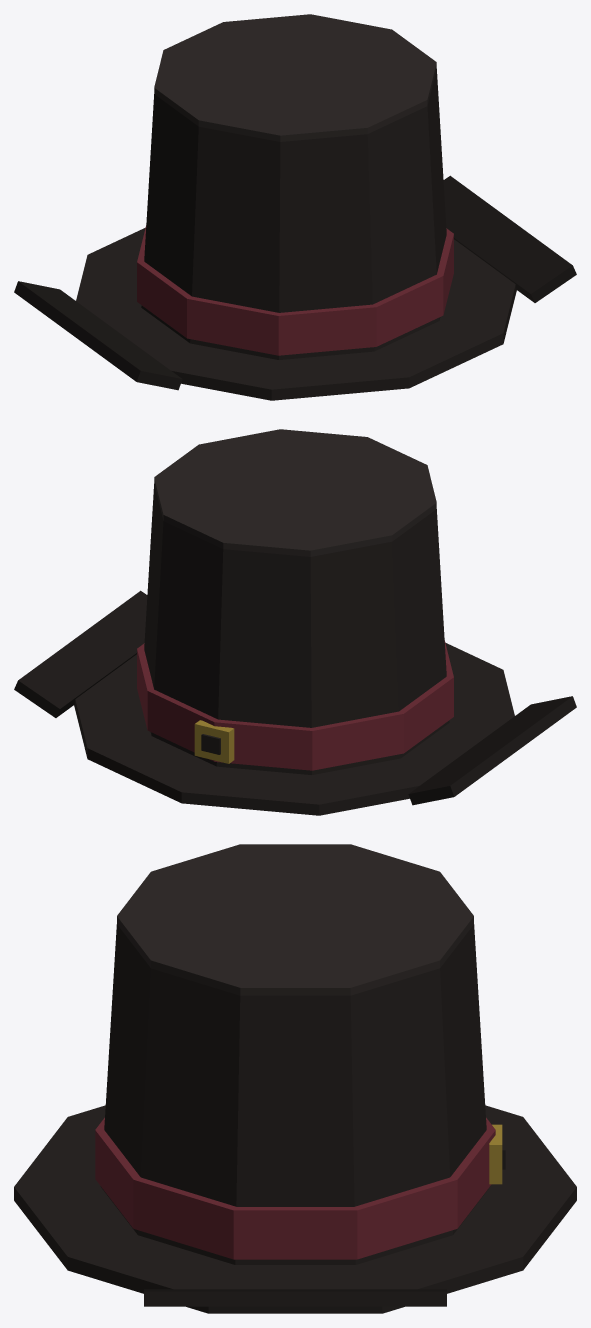
The model's file is char_hat_top_hat.glb.
3 renders of one model, top to bottom at view 1: azimuth 30°, elevation 25°; view 2: azimuth 150°, elevation 25°; view 3: azimuth 270°, elevation 25°, orthographic. The views are drawn at different scales.
Visible parts, largest first — view 1: Hat; view 2: Hat; view 3: Hat.
Boxes of the visible parts, bbox=[...] form: Hat: bbox=[14, 14, 576, 400]; Hat: bbox=[14, 429, 576, 815]; Hat: bbox=[14, 844, 576, 1313].
Bounding box in the file's own units: 0.5807 × 0.29 × 0.52.
